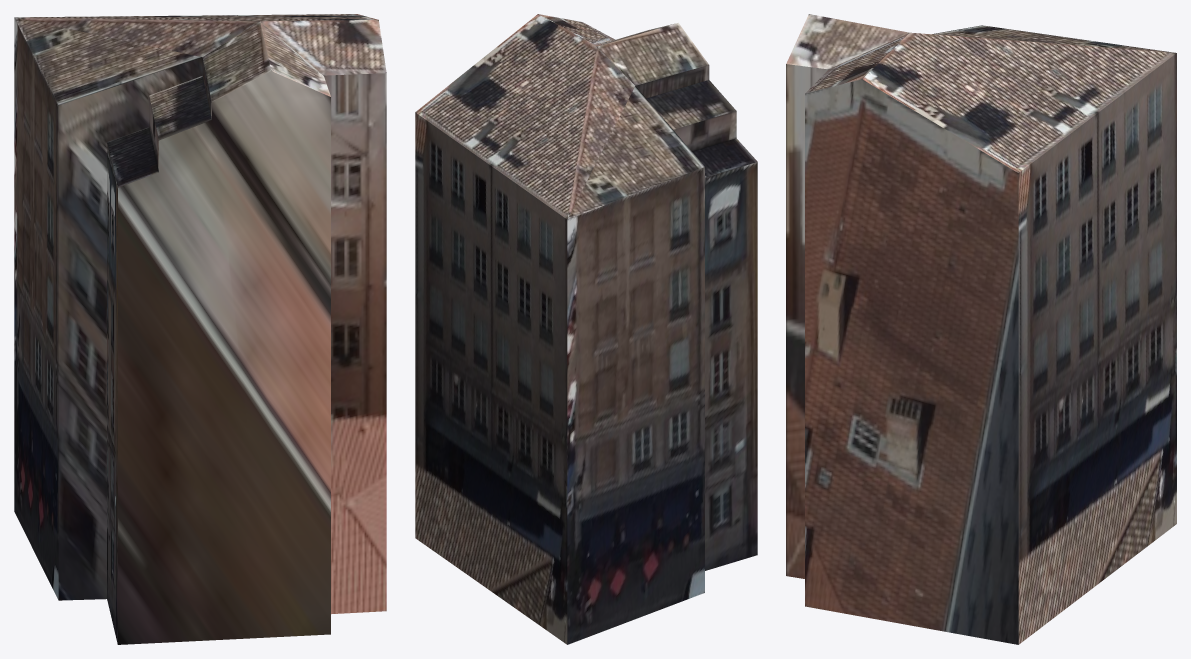
The picture shows the model from 3 angles, left to right: view 1: azimuth 30°, elevation 25°; view 2: azimuth 150°, elevation 25°; view 3: azimuth 270°, elevation 25°; orthographic projection. The views are drawn at different scales.
Parts seen in each view (by area): view 1: Z_UP; view 2: Z_UP; view 3: Z_UP.
Part boxes in pixels (left/top/right/bottom): Z_UP: left=14, top=14, right=386, bottom=644; Z_UP: left=415, top=14, right=757, bottom=644; Z_UP: left=786, top=14, right=1176, bottom=644.
Bounding box in the file's own units: 15.2 × 25.83 × 16.92.
Materials: 2 (1 with a texture image).
